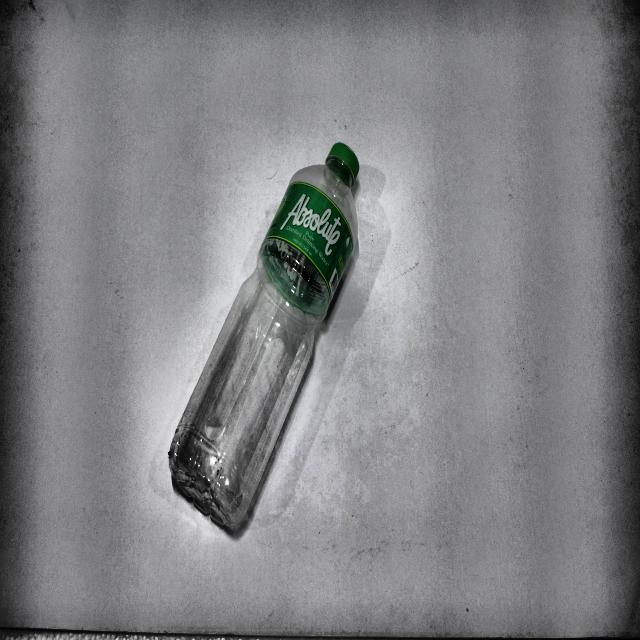Bottles: (164, 134, 370, 544)
